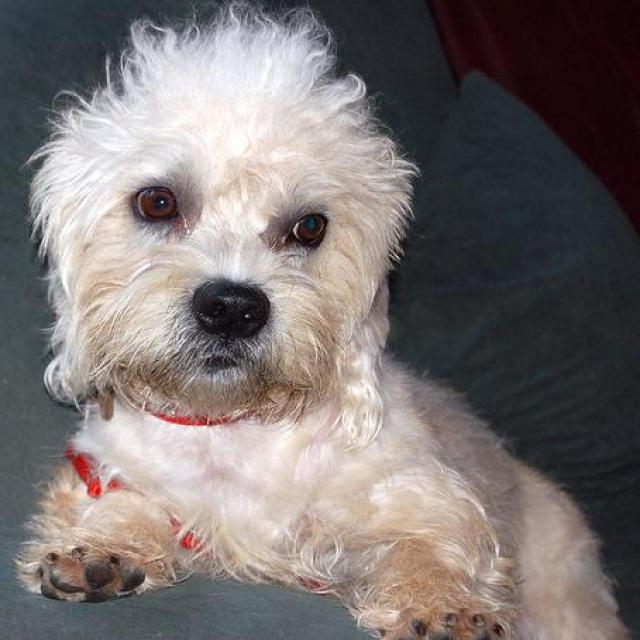dandie_dinmont: (9, 0, 631, 637)
